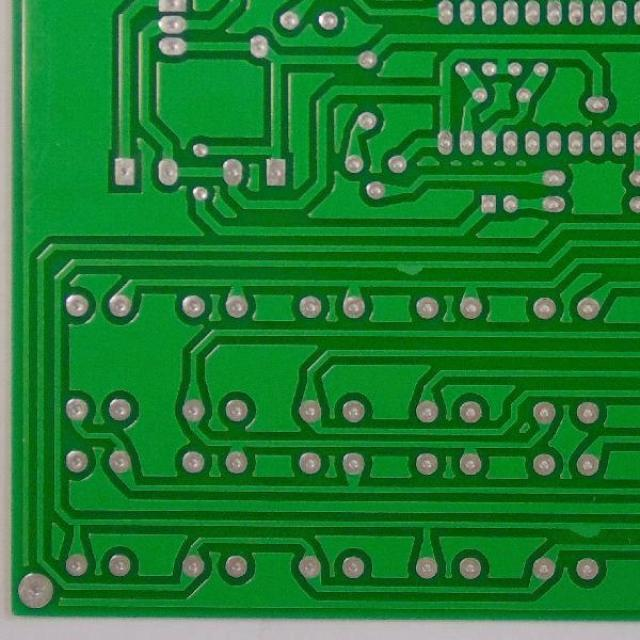Spur: (562, 515, 610, 541), (389, 256, 429, 277)
